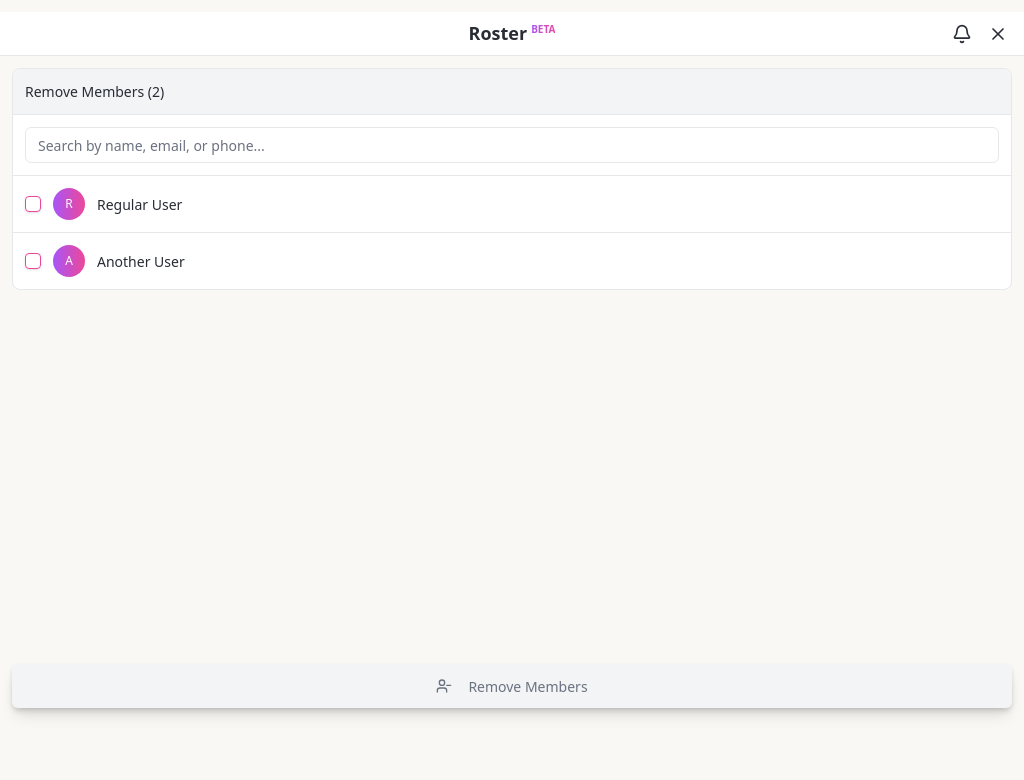
Test: RemoveMembersPage › removing members › should enable remove button when members are selected
Expected: the text "Regular User" is shown, [97,194,182,214]
Click the checkbox in the row of "Regular User". click: (33, 204)
box: [25,196,41,212]
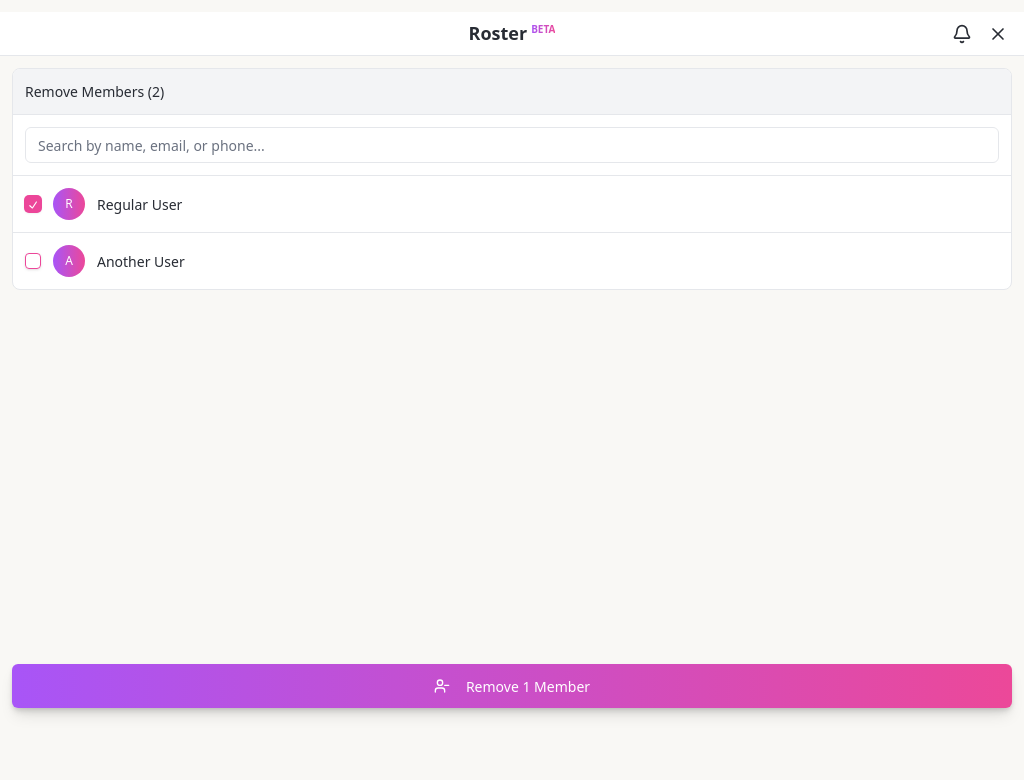
Now the button "Remove 1 Member" is enabled, box [12,664,1012,708]
